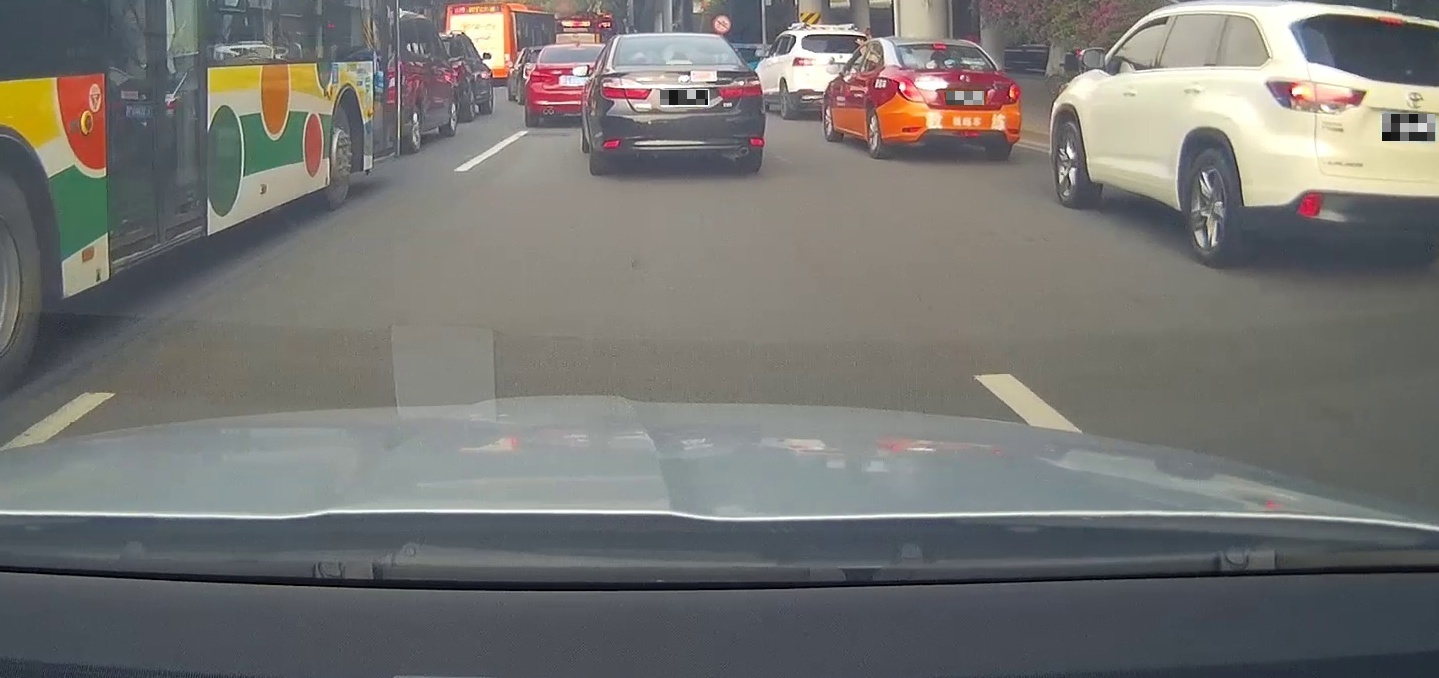L_light: (600, 78, 652, 99), (899, 83, 937, 102)
R_light: (717, 77, 761, 98), (990, 83, 1020, 103)
T_light: (665, 59, 692, 66), (932, 44, 947, 49)
day-brake: (894, 37, 1021, 159)
day-no: (591, 33, 766, 175)
plate_1: (660, 90, 708, 105)
plate_2: (946, 91, 984, 105)
plate_3: (1382, 114, 1435, 141)
